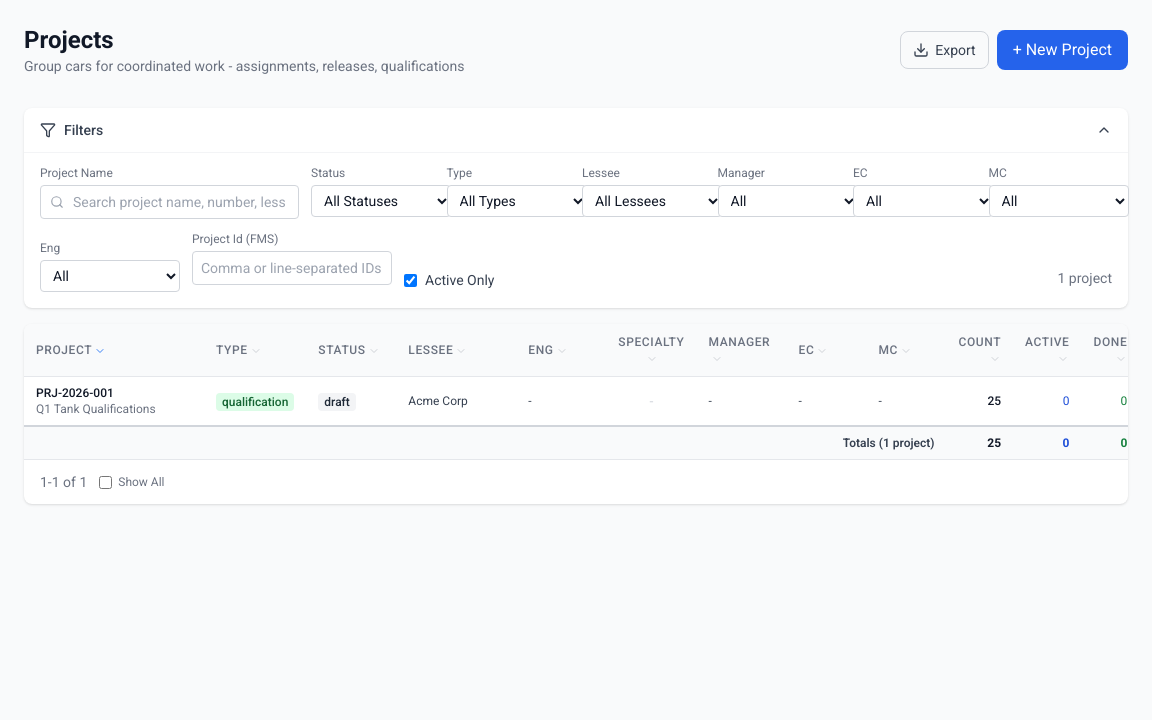
Test case: ProjectsPage › renders activate button for draft projects
This screenshot has width=1152, height=720.
Click the text "PRJ-2026-001" at (75, 393), box [36,386,114,400]
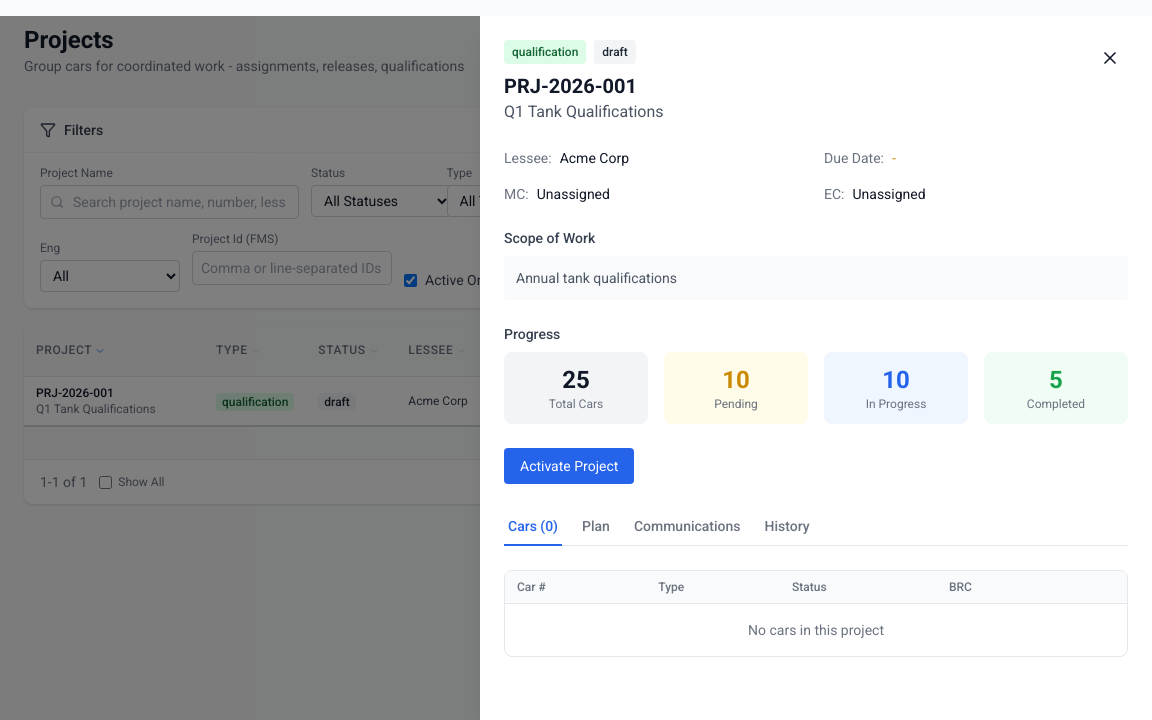
Result: the button "Activate Project" is shown at [504,448,634,484]
